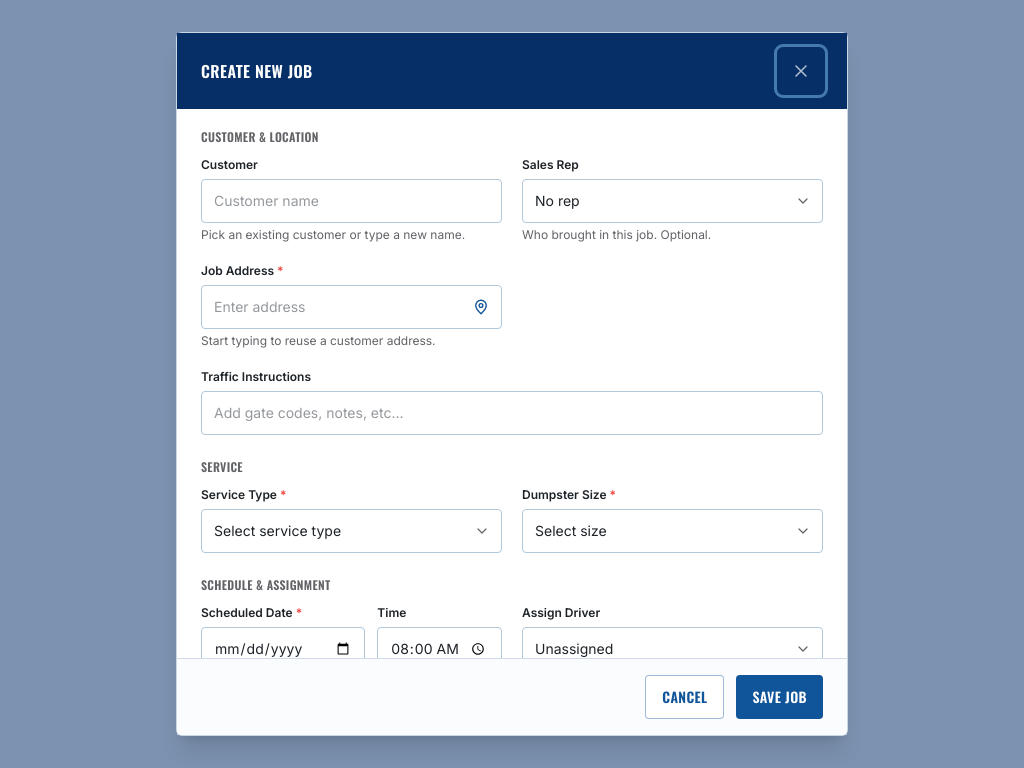
Test: CreateJobModal — which dumpster › offers a pick-up only the can on site for that customer, pre-filled
Type "Vegas GC" into the field labelled "Customer" at (352, 201), box [201,179,502,223]
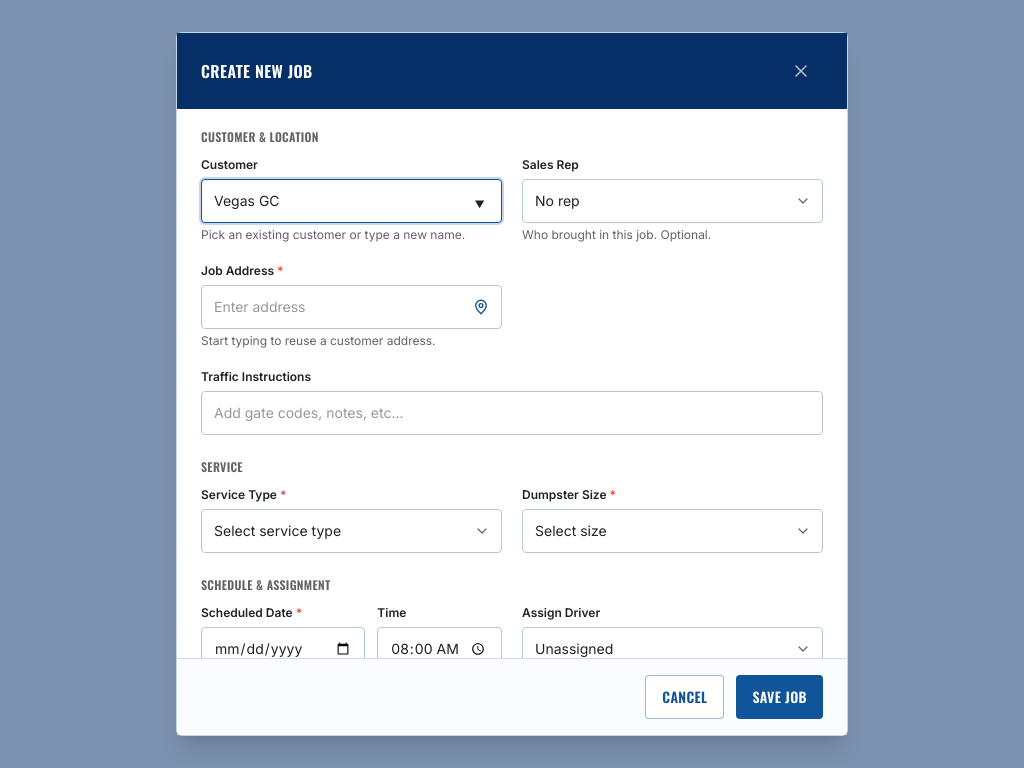
Select "Pick-Up" in the dropdown labelled "Service Type *" at (352, 531), box [201,509,502,553]
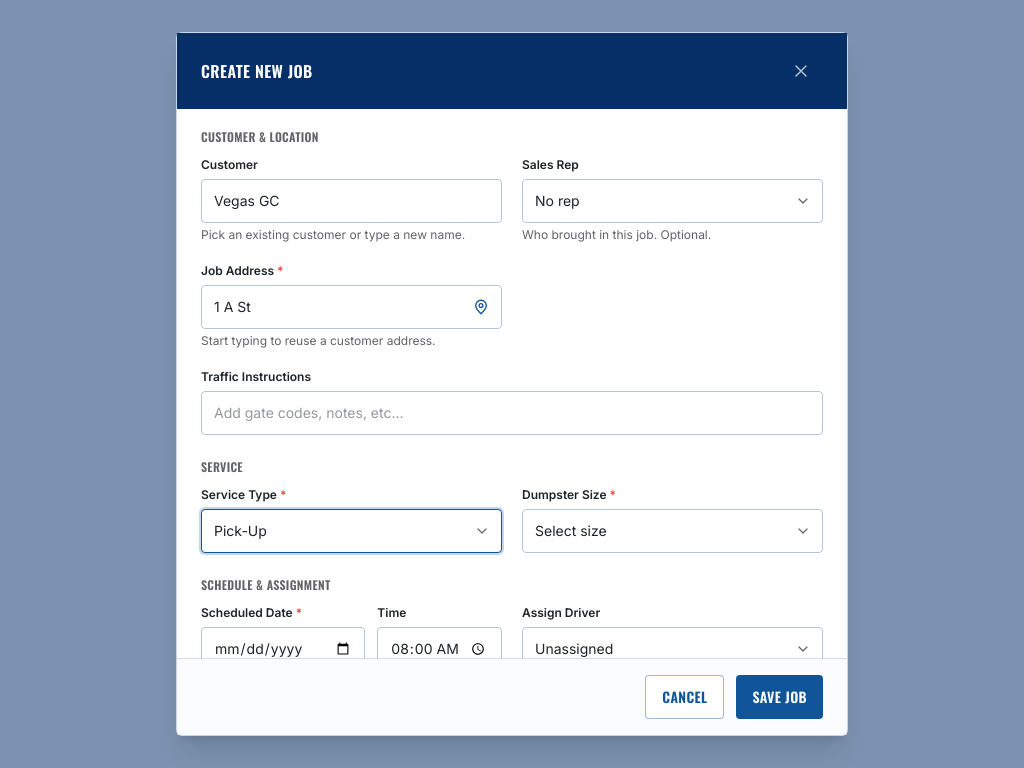
Result: the field with placeholder "Enter address" holds "1 A St" at [201,285,502,329]
